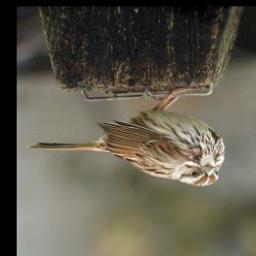Sparrow: (28, 87, 226, 188)
